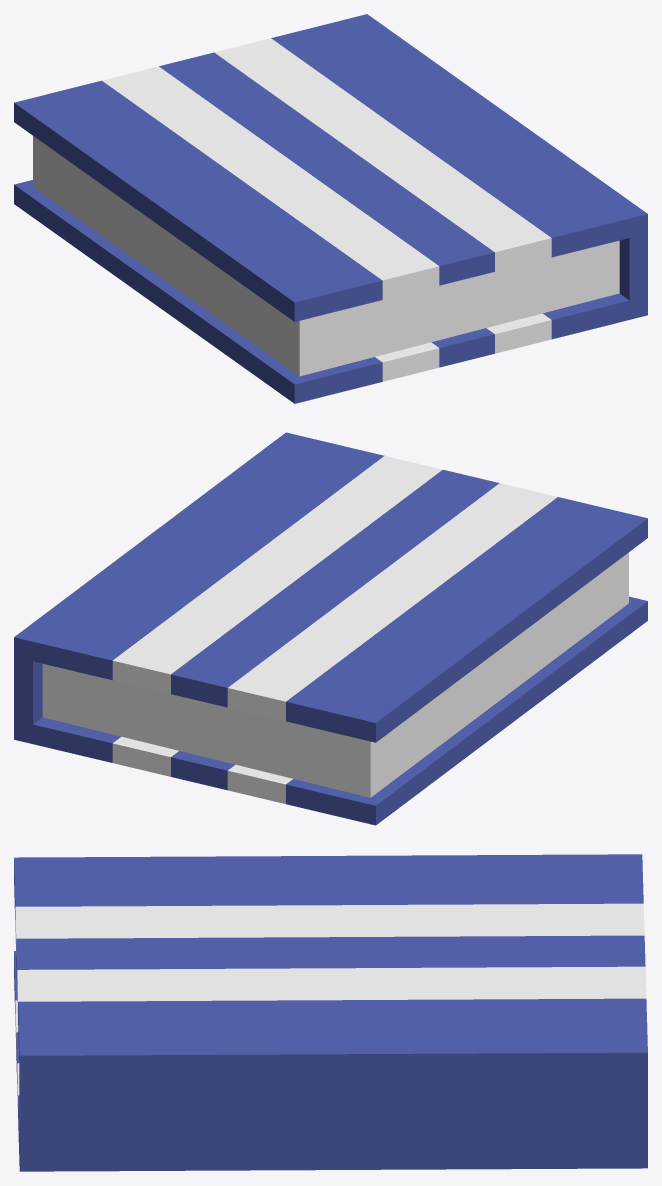
The model's file is Book_6.fbx.
3 renders of one model, top to bottom at view 1: azimuth 30°, elevation 25°; view 2: azimuth 150°, elevation 25°; view 3: azimuth 270°, elevation 25°, orthographic. The views are drawn at different scales.
Visible parts, largest first — view 1: Book_6; view 2: Book_6; view 3: Book_6.
Part boxes in pixels (bbox=[...]): Book_6: bbox=[14, 14, 647, 403]; Book_6: bbox=[14, 432, 647, 825]; Book_6: bbox=[14, 854, 647, 1171].
Size of the model in its own units: 0.1725 by 0.0462 by 0.2293.
